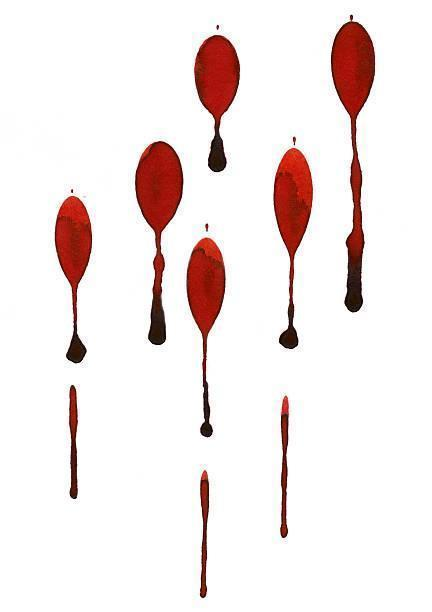Fire: (331, 20, 377, 314), (135, 141, 185, 348), (273, 146, 314, 351), (187, 237, 227, 441), (194, 33, 242, 174), (55, 194, 94, 367), (280, 398, 291, 540), (200, 470, 211, 599), (68, 386, 80, 502)
